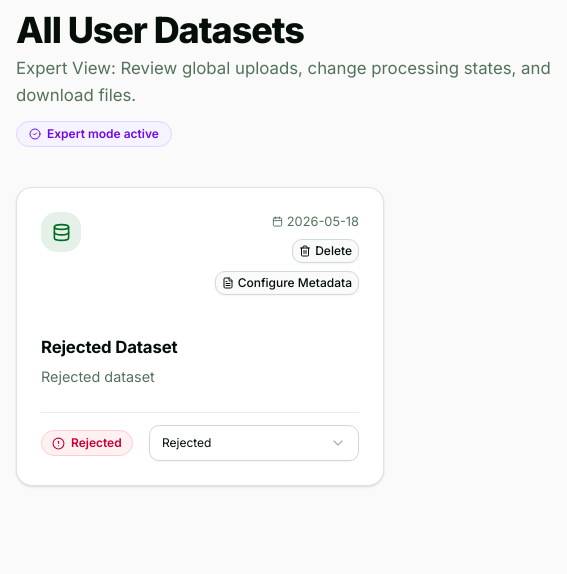
it: MyDatasetsPage › allows experts to reopen rejected datasets for review
Check: the heading "Rejected Dataset" is shown, box [41,337,178,357]
What coordinates should you click on to do the following:
click the dropdown labelled "Rejected"
I would click on:
 (254, 443)
Its box is [149,425,359,461].
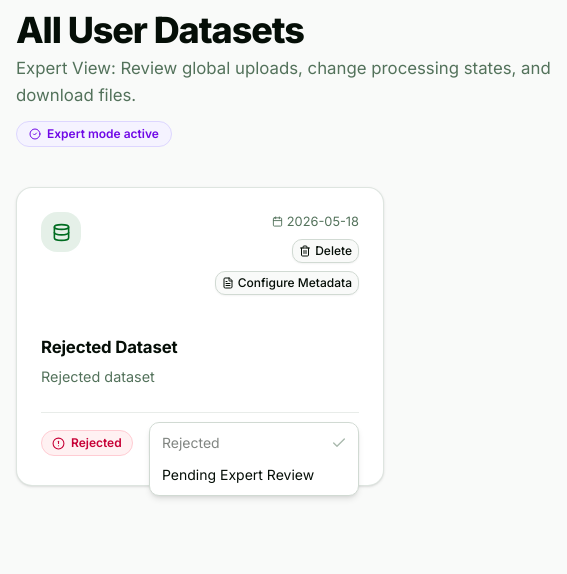
What coordinates should you click on to do the following:
click the option "Pending Expert Review"
I would click on:
 (238, 475)
Its box is [162,466,314,483].
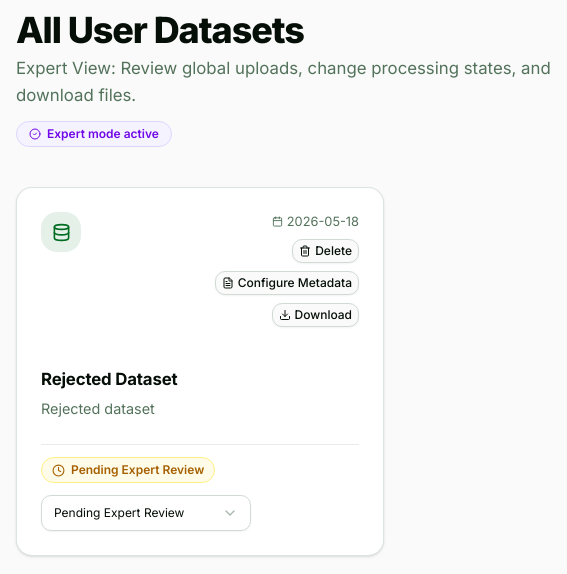
Check: the button "Download" is shown, box [272,303,359,327]
